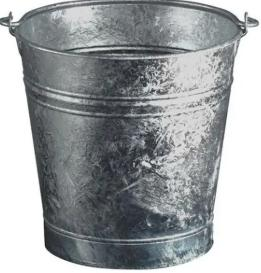SEAU: (3, 4, 256, 271)
